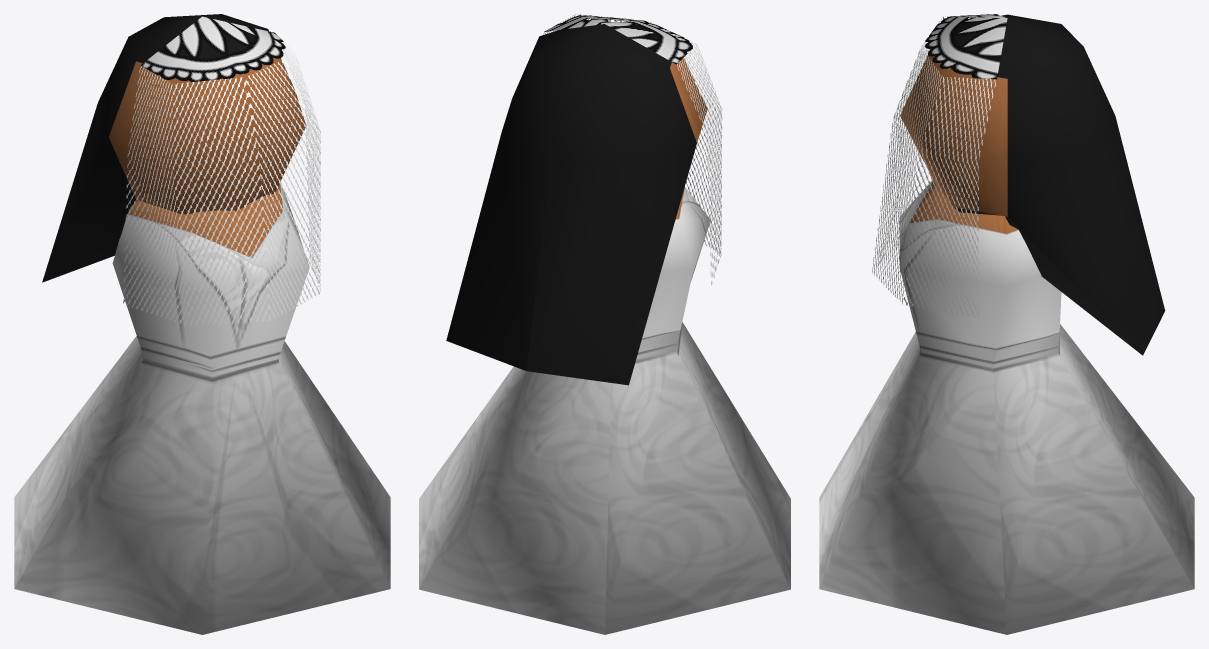
The model's file is Bride_A.FBX.
The picture shows the model from 3 angles, left to right: view 1: azimuth 30°, elevation 25°; view 2: azimuth 150°, elevation 25°; view 3: azimuth 270°, elevation 25°; orthographic projection.
Visible parts, largest first — view 1: Bride; view 2: Bride; view 3: Bride.
Part boxes in pixels (<box>): Bride: <box>14,14,390,634</box>; Bride: <box>419,14,790,634</box>; Bride: <box>819,14,1194,634</box>.
Bounding box in the file's own units: 37.74 × 50.46 × 32.68.
